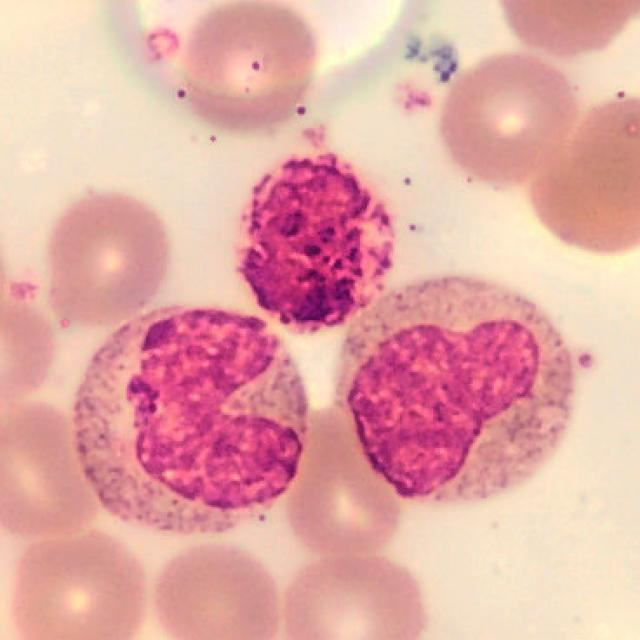Metamielocito: (71, 306, 308, 536), (344, 277, 577, 505)
